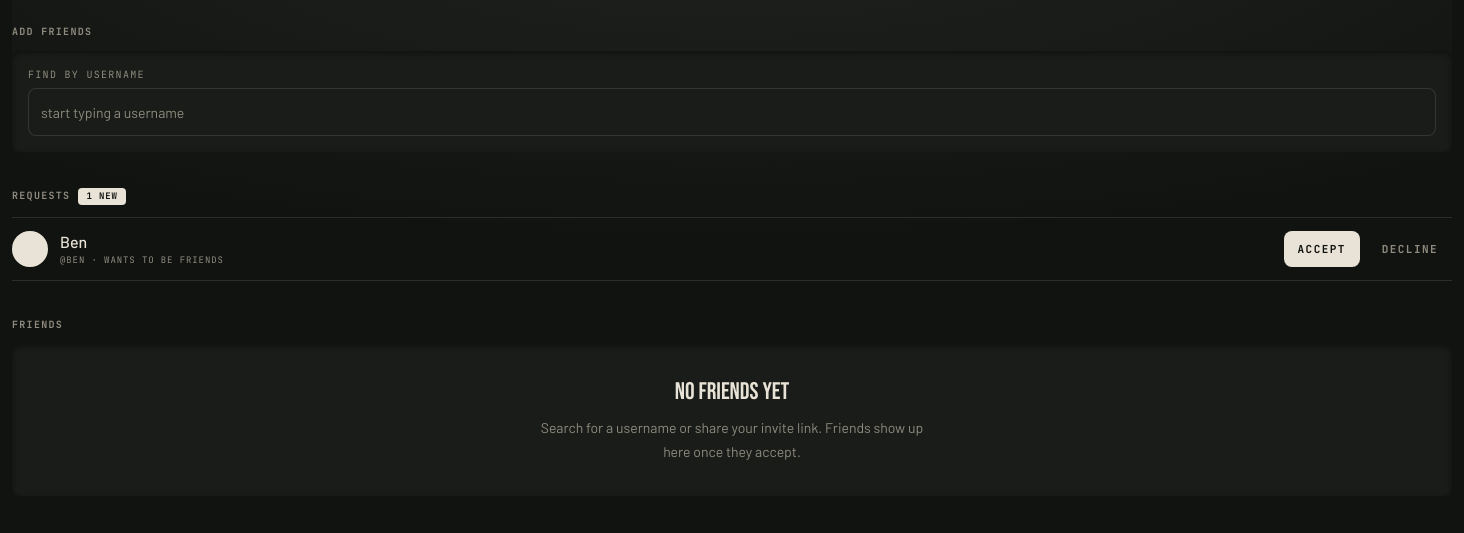
FriendsManager › shows a message when an action fails
Click the button with aria-label "Accept request from Ben". click: (1322, 249)
box: top-left (1284, 231), bottom-right (1360, 267)
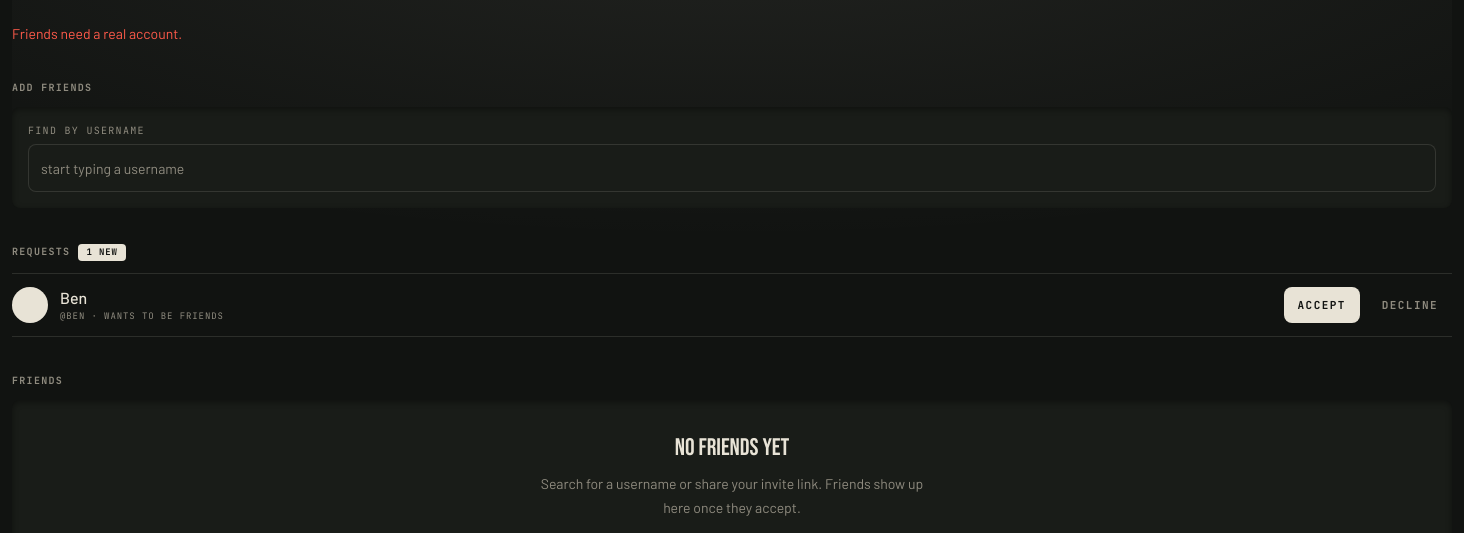
Check: the message reads "Friends need a real account.", box top-left (12, 25), bottom-right (182, 42)
